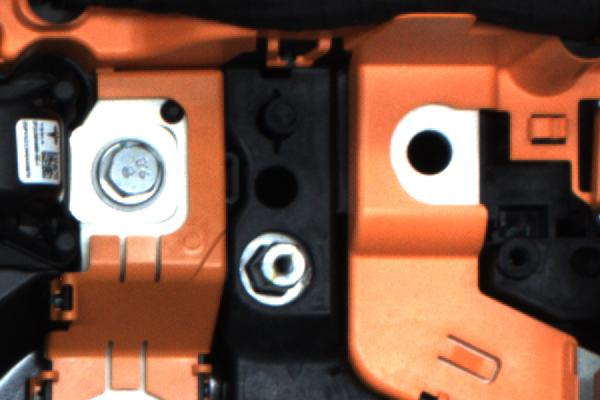nut_b: (86, 140, 174, 211)
